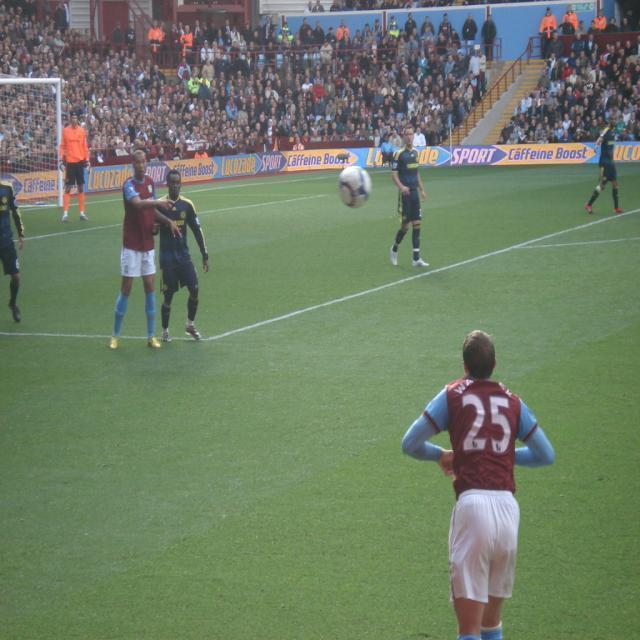football: (321, 147, 389, 229)
